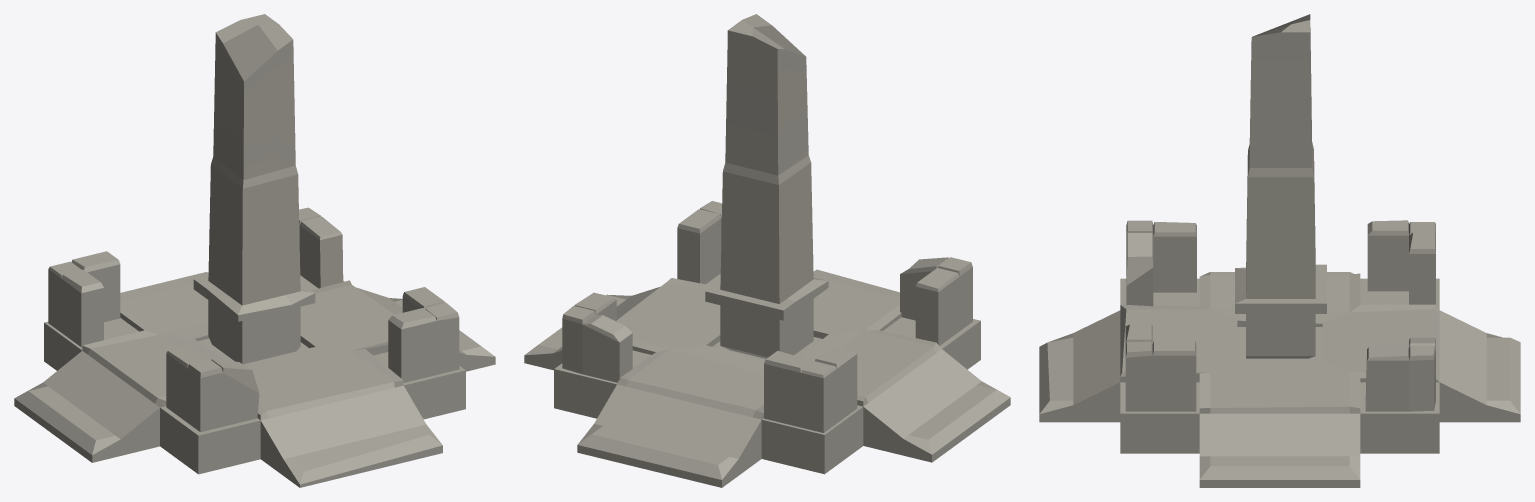
Rendered from Stone_Ruins_Center.fbx.
3 views of the same model, side by side, from view 1: azimuth 30°, elevation 25°; view 2: azimuth 150°, elevation 25°; view 3: azimuth 270°, elevation 25° (orthographic). The views are drawn at different scales.
Parts seen in each view (by area): view 1: Stone_Ruins_Center; view 2: Stone_Ruins_Center; view 3: Stone_Ruins_Center.
Part boxes in pixels (box(x1,y1,x2,y2)): Stone_Ruins_Center: box(14, 14, 495, 487); Stone_Ruins_Center: box(524, 14, 1010, 487); Stone_Ruins_Center: box(1039, 14, 1520, 487).
Bounding box in the file's own units: 410 × 410 × 344.
